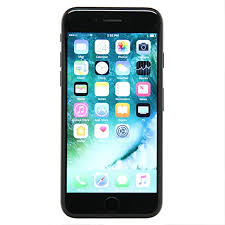iphone: (61, 4, 164, 219)
iphone7: (59, 3, 162, 218)
